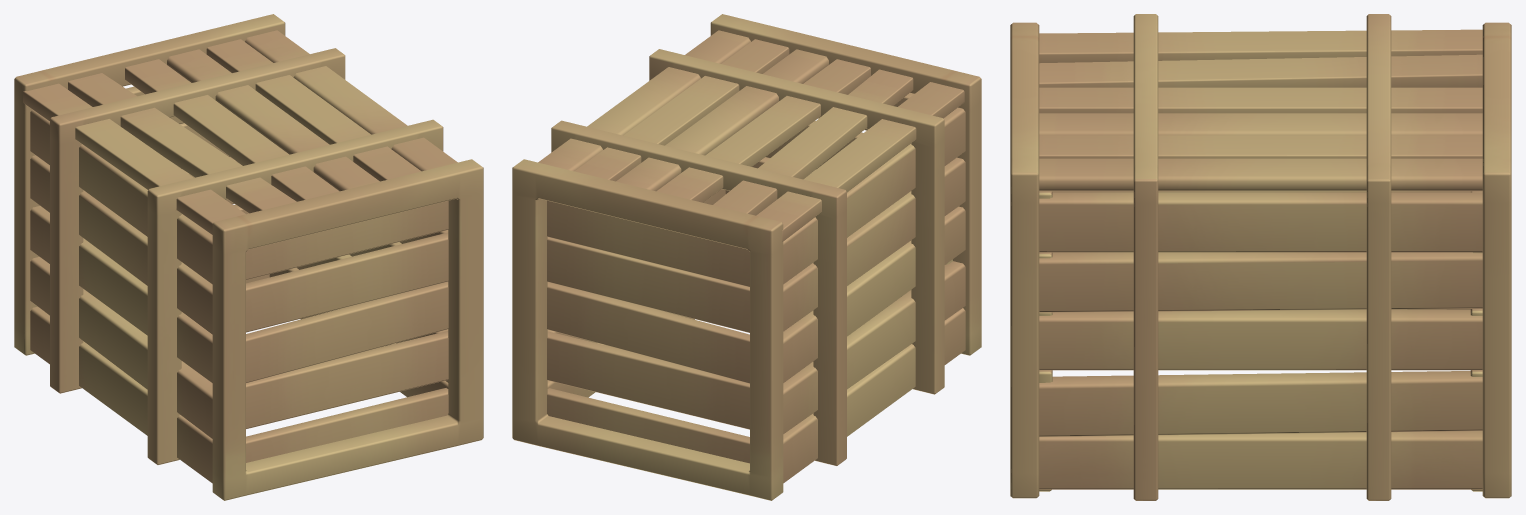
The model's file is SM_Wooden_box.fbx.
3 renders of one model, left to right at view 1: azimuth 30°, elevation 25°; view 2: azimuth 150°, elevation 25°; view 3: azimuth 270°, elevation 25°, orthographic. The views are drawn at different scales.
Visible parts, largest first — view 1: polySurface46; view 2: polySurface46; view 3: polySurface46.
Boxes of the visible parts, x1,y1,x2,y2 form: polySurface46: [14, 14, 483, 500]; polySurface46: [512, 14, 981, 500]; polySurface46: [1010, 14, 1511, 500].
Size of the model in its own units: 3.7 by 3.37 by 4.7.
1 material, 1 textured.
